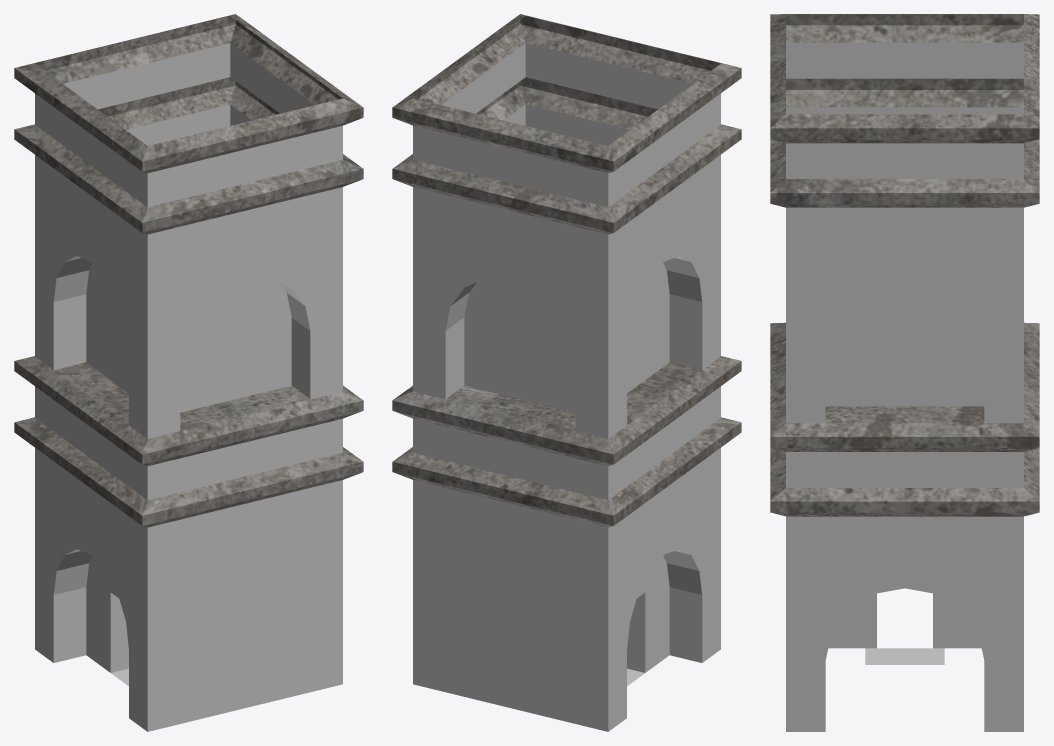
Rendered from Exterior wall.fbx.
The picture shows the model from 3 angles, left to right: view 1: azimuth 30°, elevation 25°; view 2: azimuth 150°, elevation 25°; view 3: azimuth 270°, elevation 25°; orthographic projection. The views are drawn at different scales.
Parts seen in each view (by area): view 1: Plane; view 2: Plane; view 3: Plane.
Part boxes in pixels (box(x1,y1,x2,y2)): Plane: box(14, 14, 363, 731); Plane: box(392, 14, 741, 731); Plane: box(770, 14, 1039, 731).
Size of the model in its own units: 6.8 by 17.2 by 6.8.
